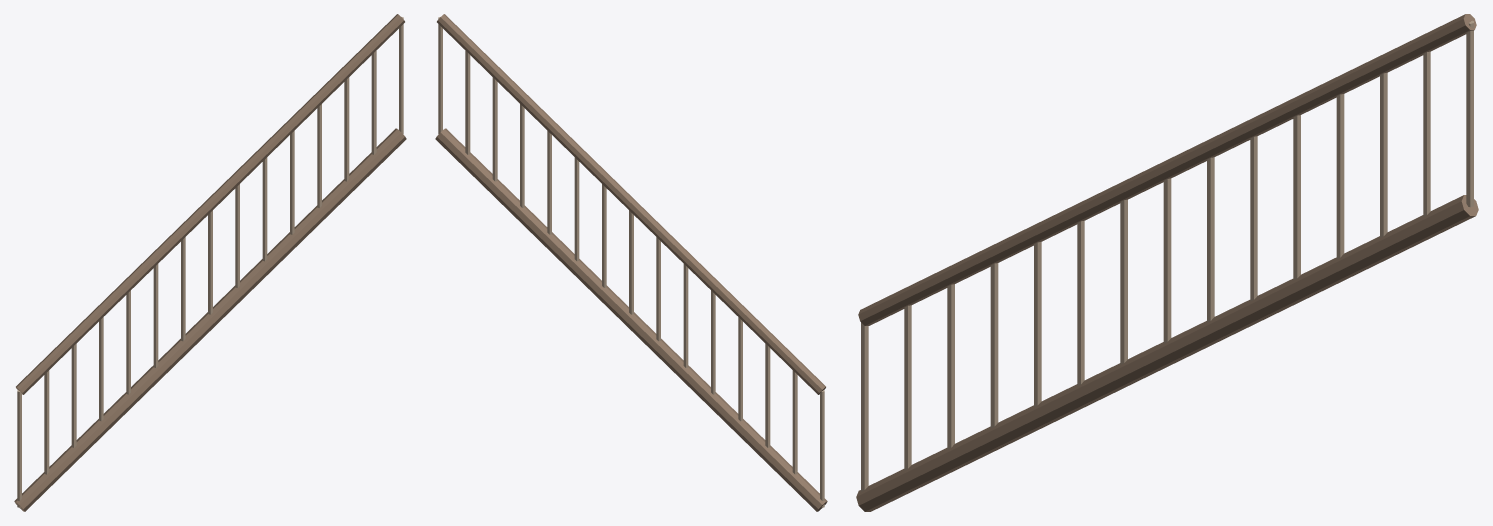
File: arch_stair_handrail.glb
3 renders of one model, left to right at view 1: azimuth 30°, elevation 25°; view 2: azimuth 150°, elevation 25°; view 3: azimuth 330°, elevation 25°, orthographic. The views are drawn at different scales.
Visible parts, largest first — view 1: arch_stair_handrail/stair_inclined_stringer_00001, arch_stair_handrail/stair_inclined_handrail_00000, arch_stair_handrail/stair_baluster_spindle_00014, arch_stair_handrail/stair_baluster_spindle_00003, arch_stair_handrail/stair_baluster_spindle_00015, arch_stair_handrail/stair_baluster_spindle_00004, arch_stair_handrail/stair_baluster_spindle_00007, arch_stair_handrail/stair_baluster_spindle_00011, arch_stair_handrail/stair_baluster_spindle_00002, arch_stair_handrail/stair_baluster_spindle_00016, arch_stair_handrail/stair_baluster_spindle_00006, arch_stair_handrail/stair_baluster_spindle_00008 (+5 smaller); view 2: arch_stair_handrail/stair_inclined_stringer_00001, arch_stair_handrail/stair_inclined_handrail_00000, arch_stair_handrail/stair_baluster_spindle_00014, arch_stair_handrail/stair_baluster_spindle_00003, arch_stair_handrail/stair_baluster_spindle_00015, arch_stair_handrail/stair_baluster_spindle_00004, arch_stair_handrail/stair_baluster_spindle_00007, arch_stair_handrail/stair_baluster_spindle_00011, arch_stair_handrail/stair_baluster_spindle_00002, arch_stair_handrail/stair_baluster_spindle_00016, arch_stair_handrail/stair_baluster_spindle_00006, arch_stair_handrail/stair_baluster_spindle_00008 (+5 smaller); view 3: arch_stair_handrail/stair_inclined_stringer_00001, arch_stair_handrail/stair_inclined_handrail_00000, arch_stair_handrail/stair_baluster_spindle_00005, arch_stair_handrail/stair_baluster_spindle_00013, arch_stair_handrail/stair_baluster_spindle_00009, arch_stair_handrail/stair_baluster_spindle_00016, arch_stair_handrail/stair_baluster_spindle_00002, arch_stair_handrail/stair_baluster_spindle_00003, arch_stair_handrail/stair_baluster_spindle_00004, arch_stair_handrail/stair_baluster_spindle_00012, arch_stair_handrail/stair_baluster_spindle_00011, arch_stair_handrail/stair_baluster_spindle_00007 (+5 smaller).
Part boxes in pixels (<box>): arch_stair_handrail/stair_inclined_stringer_00001: <box>14,128,406,511</box>; arch_stair_handrail/stair_inclined_handrail_00000: <box>16,14,404,394</box>; arch_stair_handrail/stair_baluster_spindle_00014: <box>344,77,349,181</box>; arch_stair_handrail/stair_baluster_spindle_00003: <box>44,370,49,474</box>; arch_stair_handrail/stair_baluster_spindle_00015: <box>371,50,376,154</box>; arch_stair_handrail/stair_baluster_spindle_00004: <box>71,344,76,447</box>; arch_stair_handrail/stair_baluster_spindle_00007: <box>153,264,158,367</box>; arch_stair_handrail/stair_baluster_spindle_00011: <box>262,157,267,261</box>; arch_stair_handrail/stair_baluster_spindle_00002: <box>17,390,21,507</box>; arch_stair_handrail/stair_baluster_spindle_00016: <box>399,17,403,134</box>; arch_stair_handrail/stair_baluster_spindle_00006: <box>126,290,130,394</box>; arch_stair_handrail/stair_baluster_spindle_00008: <box>181,237,185,341</box>; arch_stair_handrail/stair_inclined_stringer_00001: <box>435,128,827,511</box>; arch_stair_handrail/stair_inclined_handrail_00000: <box>437,14,825,394</box>; arch_stair_handrail/stair_baluster_spindle_00014: <box>492,77,497,181</box>; arch_stair_handrail/stair_baluster_spindle_00003: <box>792,370,797,474</box>; arch_stair_handrail/stair_baluster_spindle_00015: <box>465,50,470,154</box>; arch_stair_handrail/stair_baluster_spindle_00004: <box>765,344,770,447</box>; arch_stair_handrail/stair_baluster_spindle_00007: <box>683,264,688,367</box>; arch_stair_handrail/stair_baluster_spindle_00011: <box>574,157,579,261</box>; arch_stair_handrail/stair_baluster_spindle_00002: <box>820,390,824,507</box>; arch_stair_handrail/stair_baluster_spindle_00016: <box>438,17,442,134</box>; arch_stair_handrail/stair_baluster_spindle_00006: <box>711,290,715,394</box>; arch_stair_handrail/stair_baluster_spindle_00008: <box>656,237,660,341</box>; arch_stair_handrail/stair_inclined_stringer_00001: <box>856,195,1478,511</box>; arch_stair_handrail/stair_inclined_handrail_00000: <box>858,14,1476,325</box>; arch_stair_handrail/stair_baluster_spindle_00005: <box>990,263,998,428</box>; arch_stair_handrail/stair_baluster_spindle_00013: <box>1336,94,1344,258</box>; arch_stair_handrail/stair_baluster_spindle_00009: <box>1163,178,1171,343</box>; arch_stair_handrail/stair_baluster_spindle_00016: <box>1466,20,1473,207</box>; arch_stair_handrail/stair_baluster_spindle_00002: <box>861,322,868,491</box>; arch_stair_handrail/stair_baluster_spindle_00003: <box>904,305,911,470</box>; arch_stair_handrail/stair_baluster_spindle_00004: <box>947,284,954,449</box>; arch_stair_handrail/stair_baluster_spindle_00012: <box>1293,115,1300,280</box>; arch_stair_handrail/stair_baluster_spindle_00011: <box>1250,136,1257,301</box>; arch_stair_handrail/stair_baluster_spindle_00007: <box>1077,220,1084,385</box>.
Bounding box in the file's own units: 2.92 × 2.91 × 0.1.
